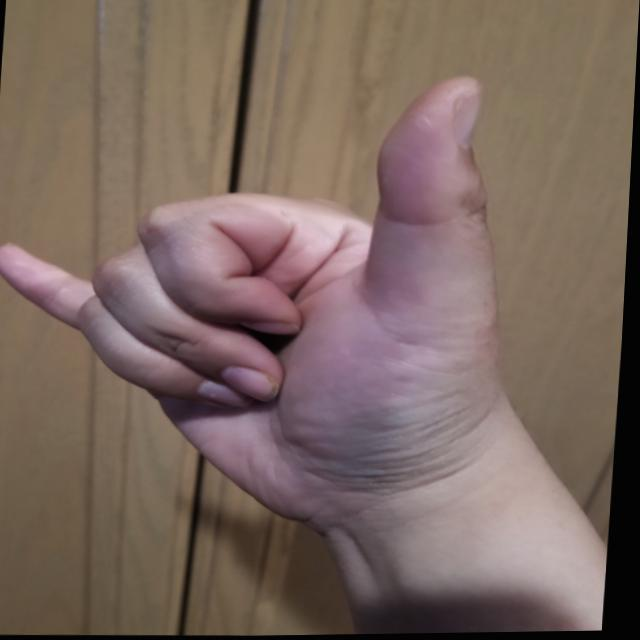Y: (0, 58, 534, 549)
